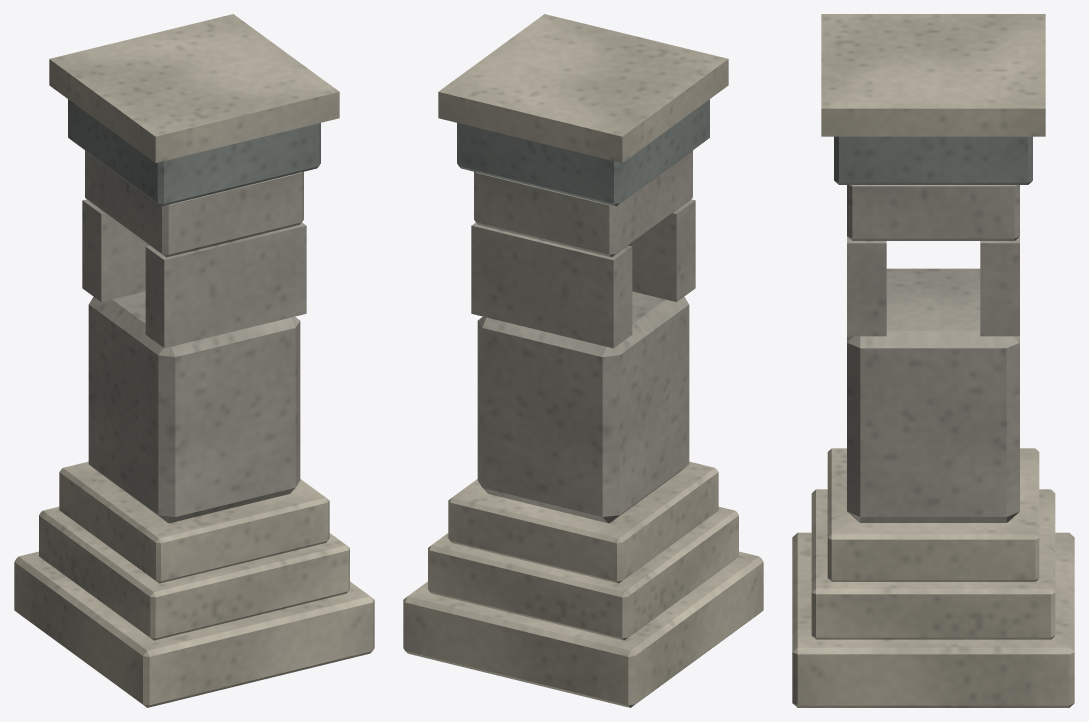
The picture shows the model from 3 angles, left to right: view 1: azimuth 30°, elevation 25°; view 2: azimuth 150°, elevation 25°; view 3: azimuth 270°, elevation 25°; orthographic projection. The views are drawn at different scales.
Parts seen in each view (by area): view 1: D05_light, D05_stone, D05_cool; view 2: D05_light, D05_stone, D05_cool; view 3: D05_light, D05_stone, D05_cool.
Boxes of the visible parts, box(x1,y1,x2,y2) form: D05_light: box(14, 14, 374, 707); D05_stone: box(82, 150, 306, 523); D05_cool: box(68, 99, 320, 206); D05_light: box(403, 14, 763, 707); D05_stone: box(471, 150, 695, 523); D05_cool: box(457, 99, 709, 206); D05_light: box(792, 14, 1074, 707); D05_stone: box(847, 185, 1019, 522); D05_cool: box(834, 136, 1032, 184).
Bounding box in the file's own units: 0.44 × 1.01 × 0.44.
Materials: 3 (3 with a texture image).
